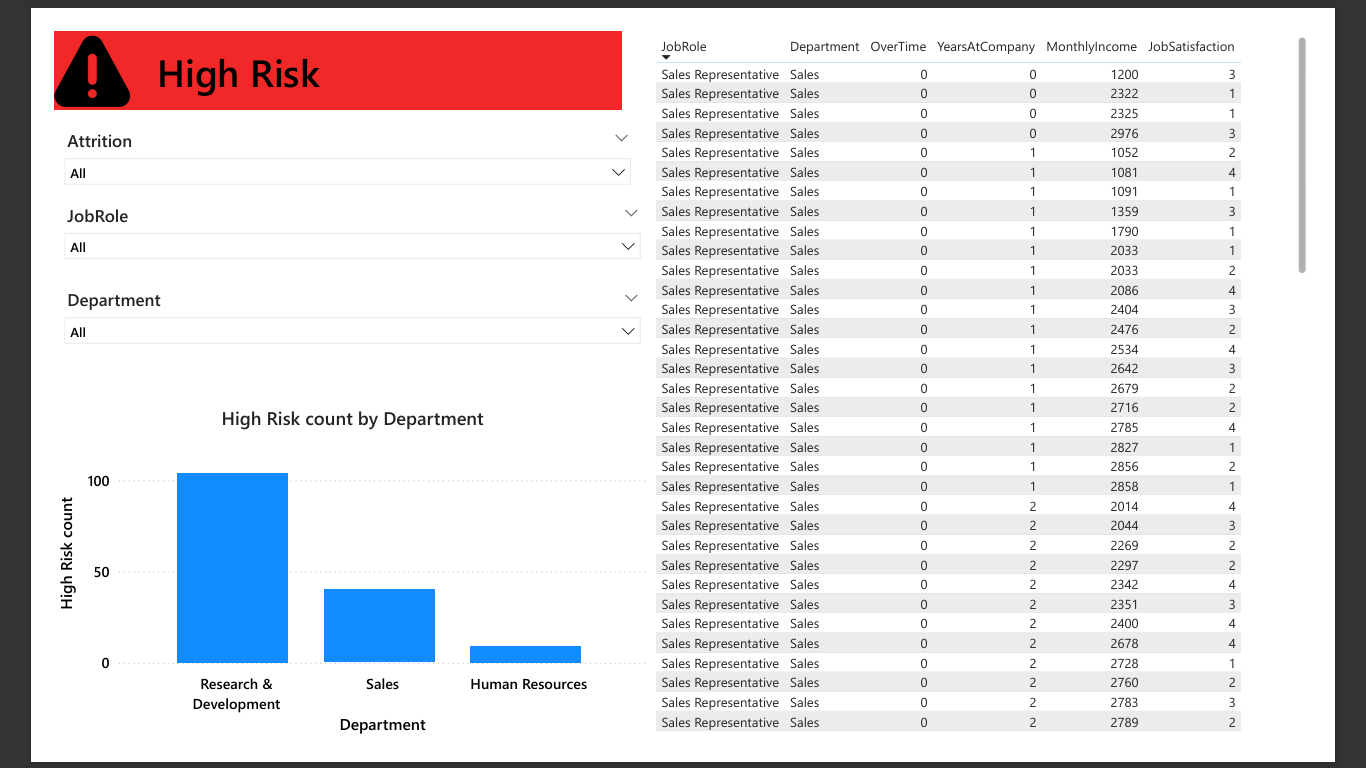

Layout of this report page (visuals, bound fields, positions):
{"tool":"powerbi","page":{"name":"High Risk","canvas":[1280,720],"ordinal":3},"visuals":[{"type":"tableEx","fields":{"Values":["hr_clean.JobRole","hr_clean.Department","hr_clean.OverTime","hr_clean.YearsAtCompany","hr_clean.MonthlyIncome","hr_clean.JobSatisfaction"]},"box":[607.1,0,672.9,720],"z":0},{"type":"columnChart","fields":{"Y":["hr_clean.High Risk count"],"Category":["hr_clean.Department"]},"box":[0,381.4,607.1,338.6],"z":1000},{"type":"slicer","fields":{"Values":["hr_clean.Attrition"]},"box":[0,94.3,597.1,75.7],"z":2000},{"type":"slicer","fields":{"Values":["hr_clean.Department"]},"box":[0,255.7,607.1,90],"z":3000},{"type":"slicer","fields":{"Values":["hr_clean.JobRole"]},"box":[0,170,607.1,85.7],"z":4000},{"type":"shape","box":[0,0,578.3,80],"z":5000},{"type":"image","box":[0,0,76.7,80],"z":6000}]}

Visuals, with their boxes in screenshot pixels (x1, y1, x2, y2), scaled from the page's 1280x720 canvas onto the 1366x768 screenshot:
tableEx - hr_clean.JobRole x hr_clean.Department: 648/0/1365/767
columnChart - hr_clean.High Risk count x hr_clean.Department: 0/407/648/767
slicer - hr_clean.Attrition: 0/101/637/181
slicer - hr_clean.Department: 0/273/648/369
slicer - hr_clean.JobRole: 0/181/648/273
shape: 0/0/617/85
image: 0/0/82/85
